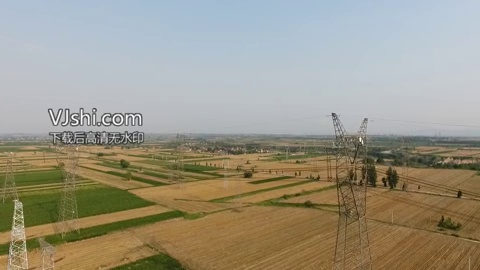tower_body: (324, 109, 385, 270), (49, 144, 85, 239)
tower_foot: (335, 234, 375, 267)
tower_head: (328, 112, 377, 211)
